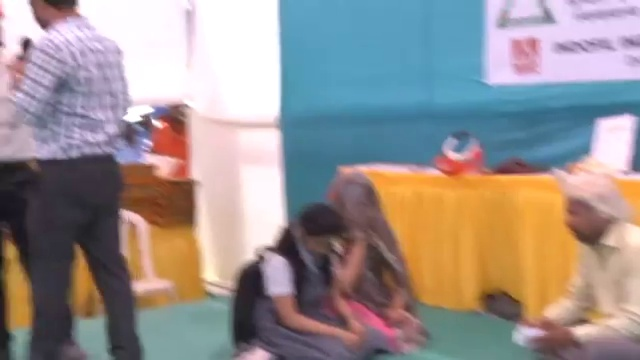helmet: (136, 149, 186, 183)
helmet_off: (326, 176, 388, 255), (552, 179, 616, 250), (291, 202, 362, 264), (23, 3, 86, 36), (162, 96, 193, 137)
person: (9, 0, 142, 360), (230, 190, 388, 359), (520, 173, 639, 359), (324, 173, 432, 354), (0, 2, 40, 360), (158, 97, 195, 180)
